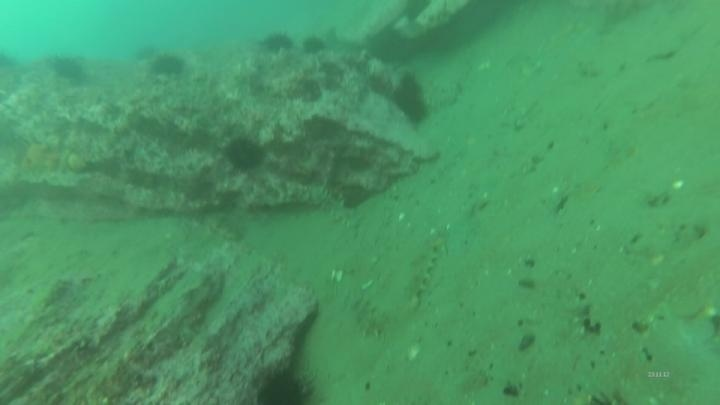echinus: (252, 364, 319, 405), (390, 72, 432, 128), (364, 24, 414, 68), (222, 134, 267, 174), (49, 53, 88, 86), (148, 51, 188, 80), (258, 29, 295, 57), (300, 33, 328, 58)
holothurian: (401, 233, 447, 312), (349, 290, 389, 341)
